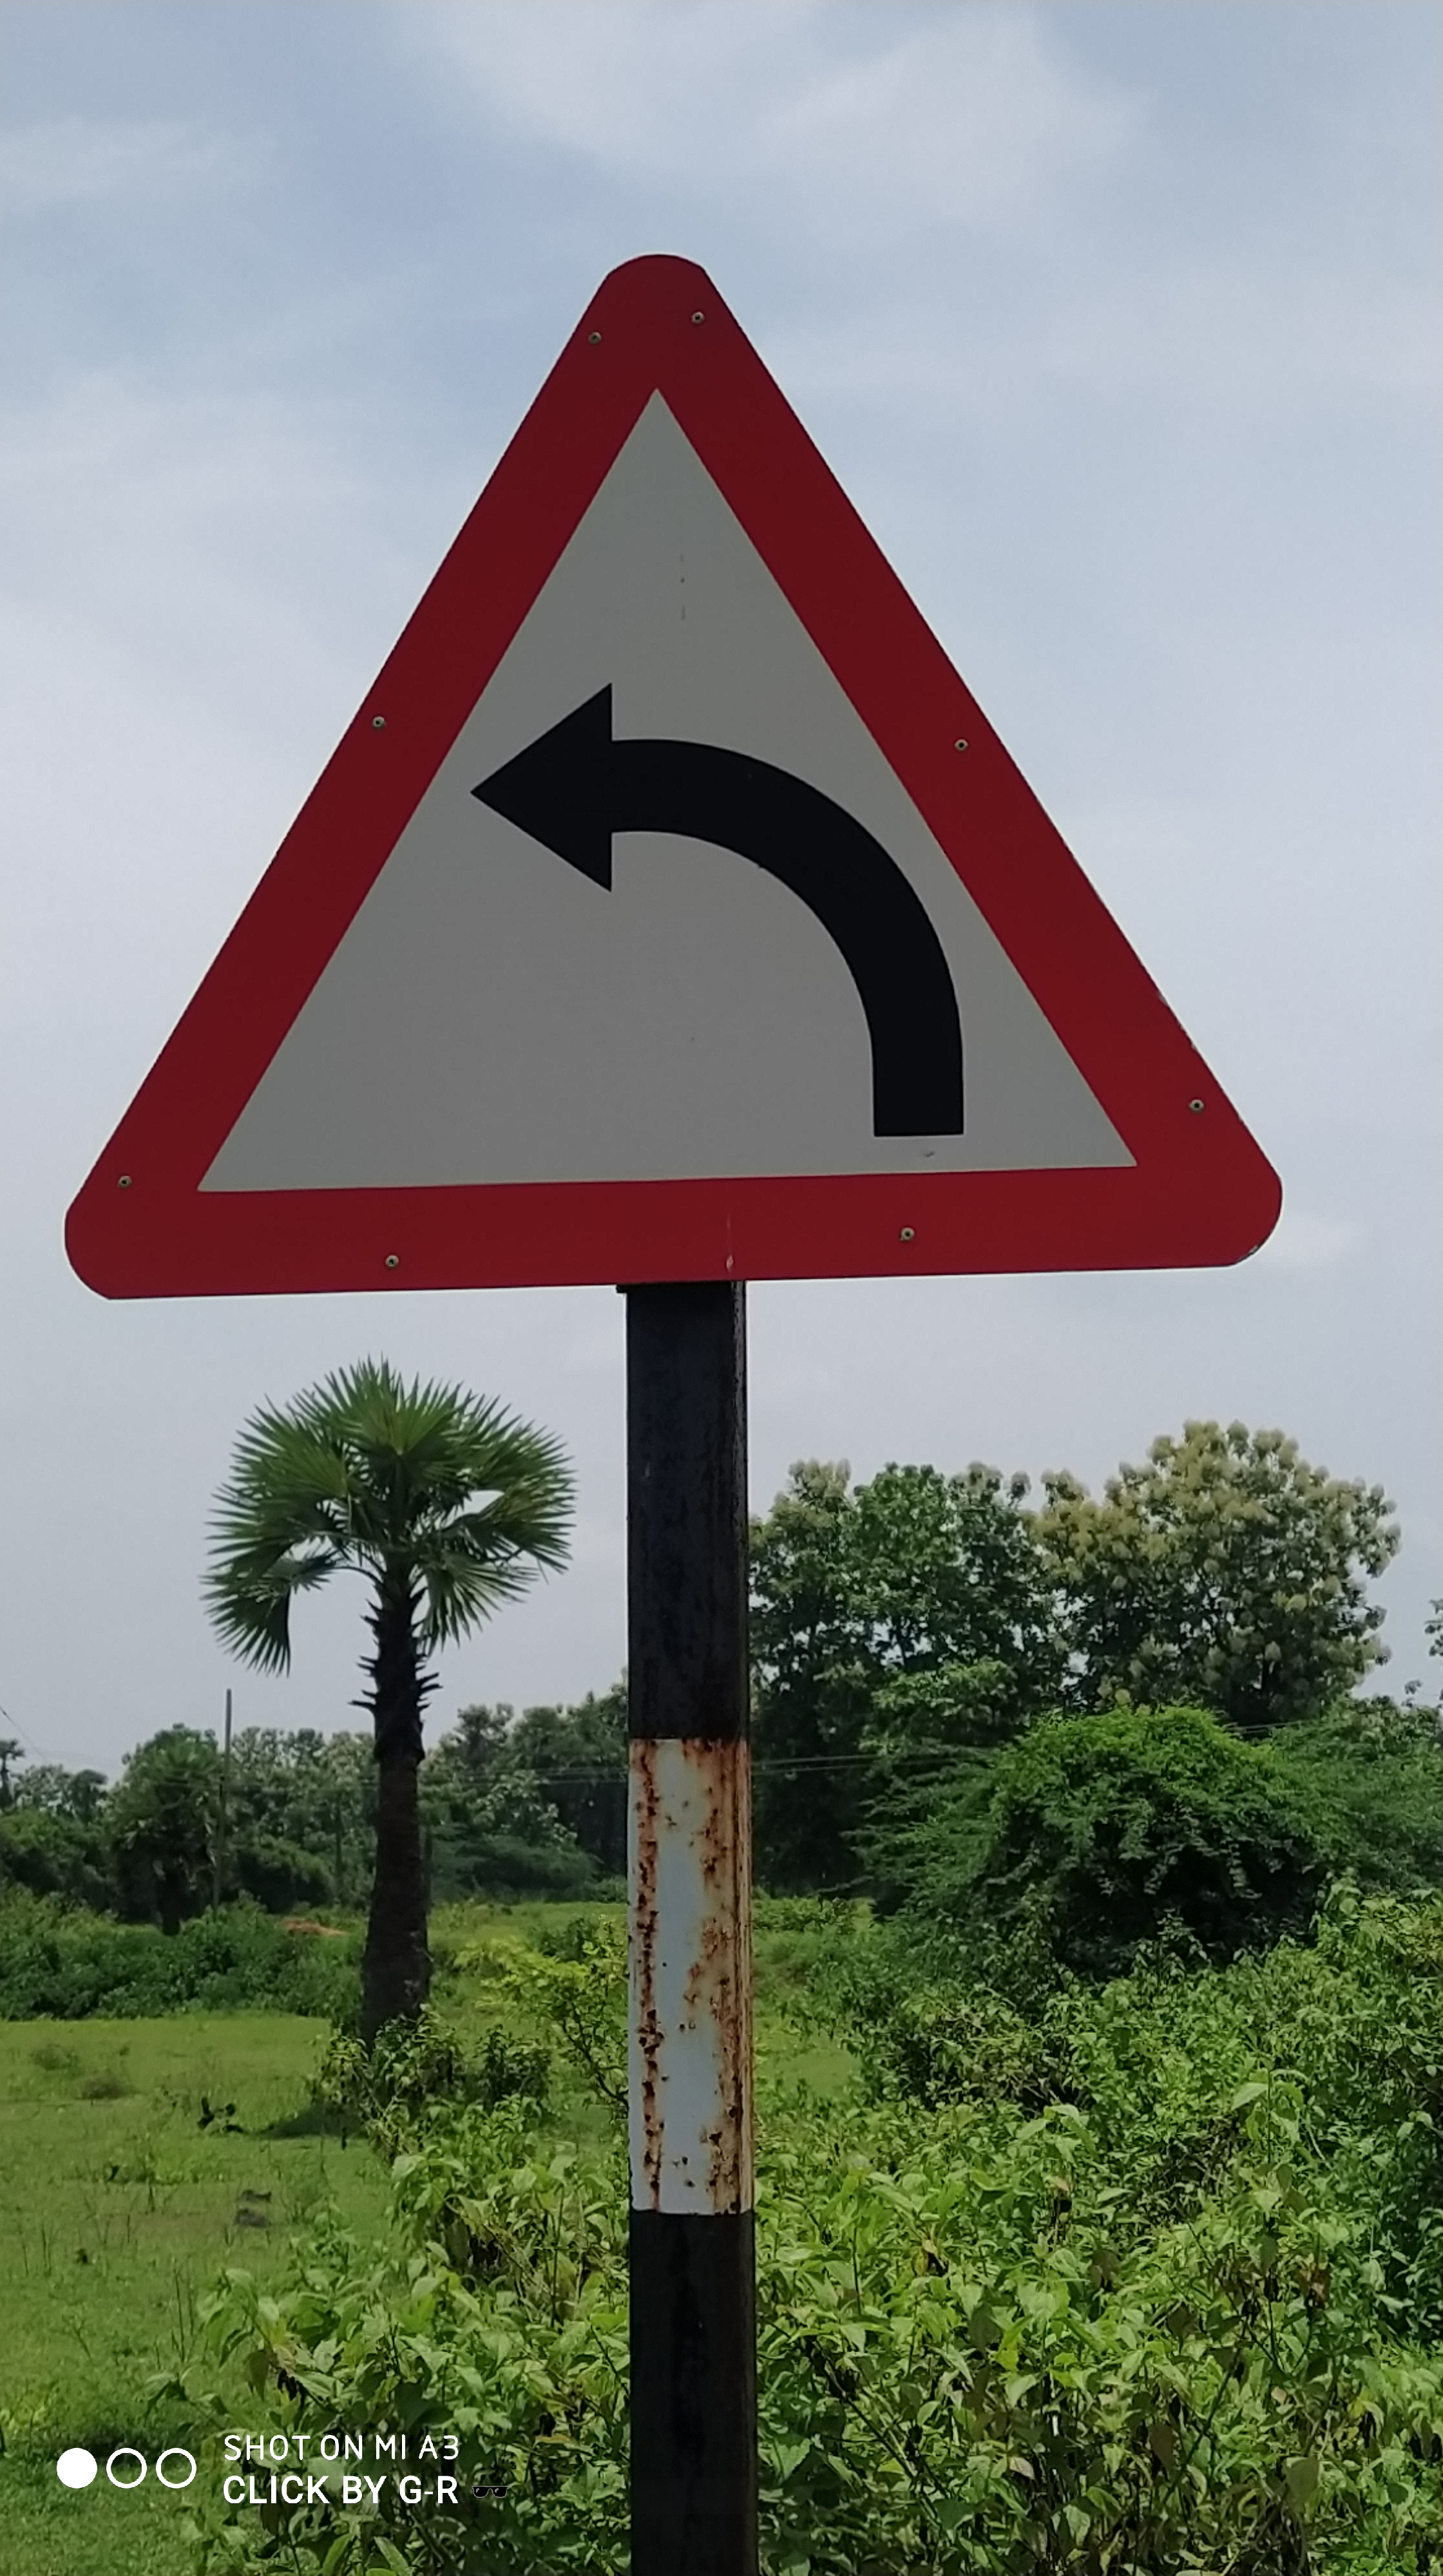Turn left: (51, 260, 1372, 1330)
